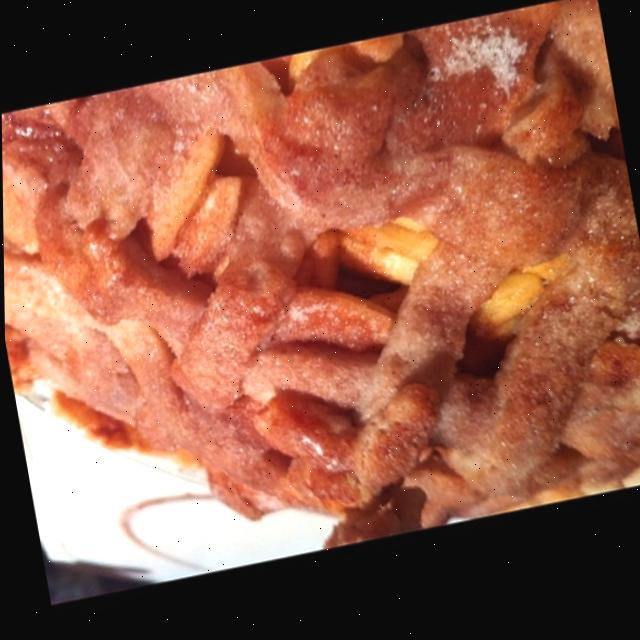炸货点心: (0, 13, 640, 602)
蛋糕甜品: (0, 13, 640, 602)
